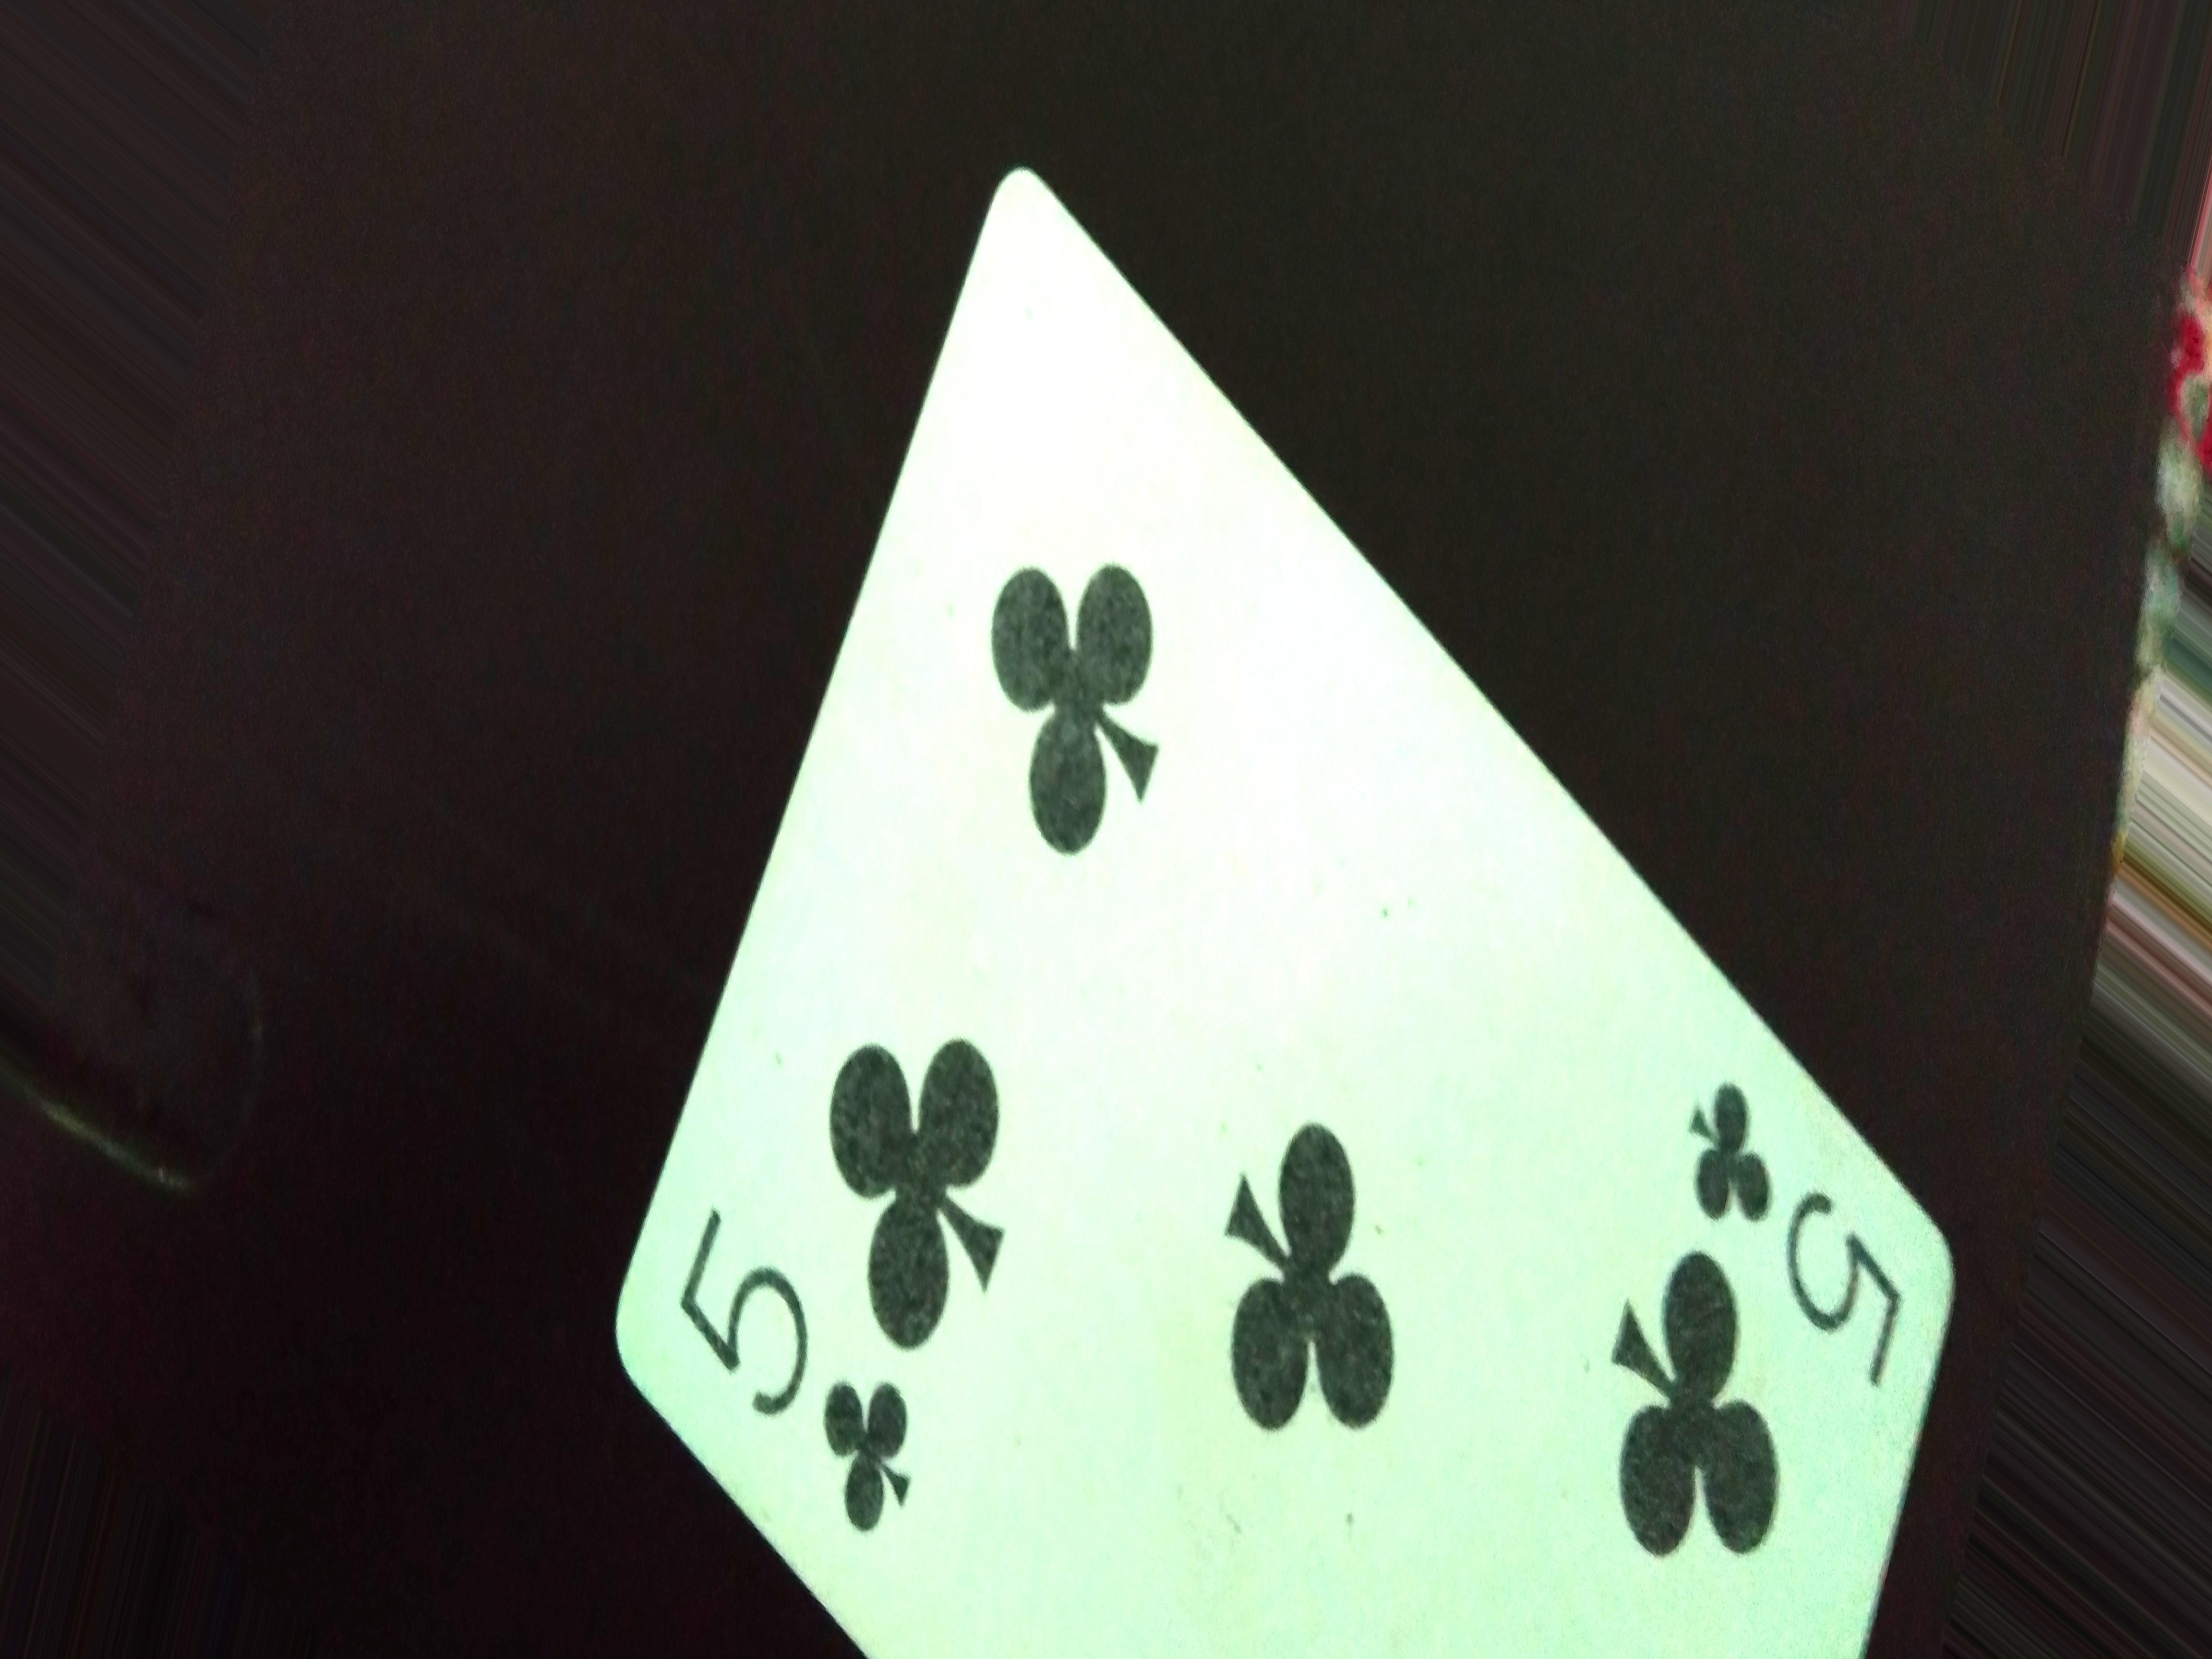5C: (1674, 1066, 1944, 1415)
